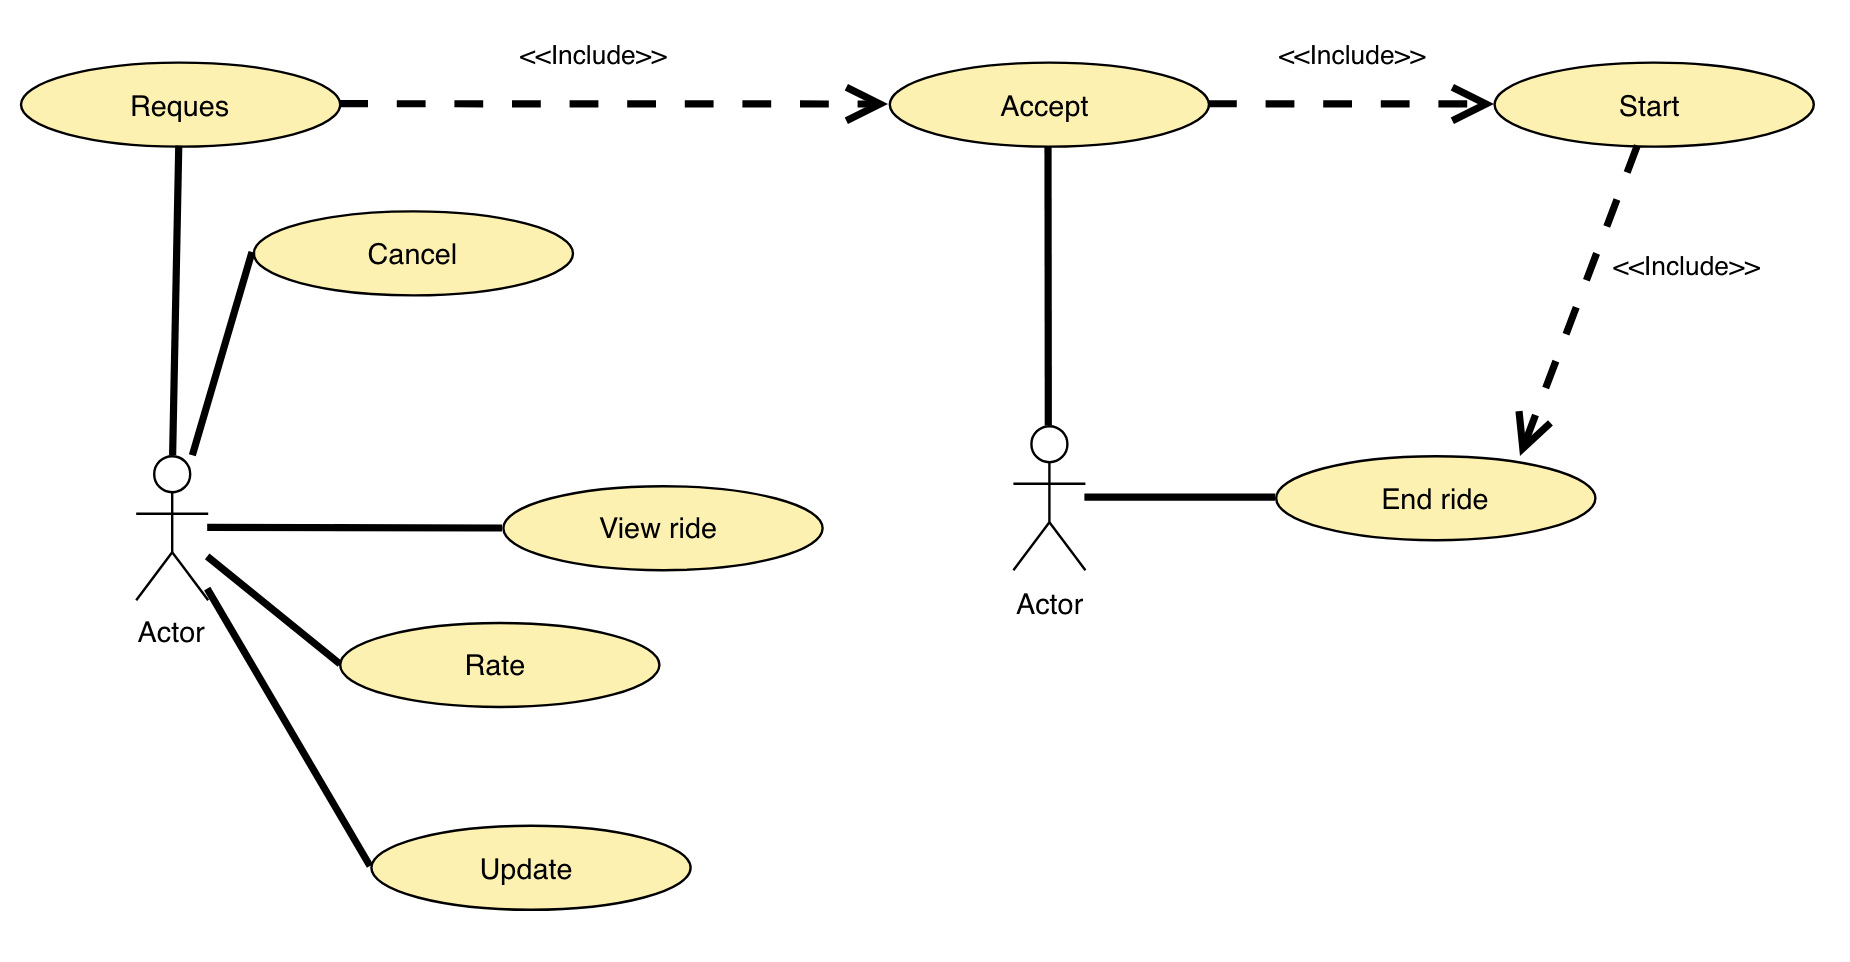actor: (1000, 426, 1094, 576), (122, 454, 212, 608)
association: (209, 586, 373, 868), (1514, 143, 1640, 461), (338, 80, 890, 135), (1210, 61, 1492, 144), (202, 546, 341, 667), (1018, 147, 1072, 425), (206, 499, 503, 550), (185, 245, 253, 459), (148, 149, 195, 453), (1088, 474, 1271, 523)
text: (493, 31, 682, 80), (1276, 33, 1441, 80), (1609, 252, 1774, 293), (474, 843, 598, 892), (113, 82, 243, 129), (591, 509, 730, 552), (1351, 480, 1498, 519), (347, 233, 472, 277), (976, 89, 1100, 129), (447, 643, 547, 690), (1605, 80, 1704, 127), (1005, 583, 1101, 623), (130, 614, 215, 652)
use_case: (503, 480, 826, 576), (366, 822, 696, 914), (251, 208, 576, 301), (1274, 452, 1598, 545), (18, 59, 343, 151), (888, 59, 1211, 151), (1492, 59, 1816, 149), (341, 621, 664, 711)
